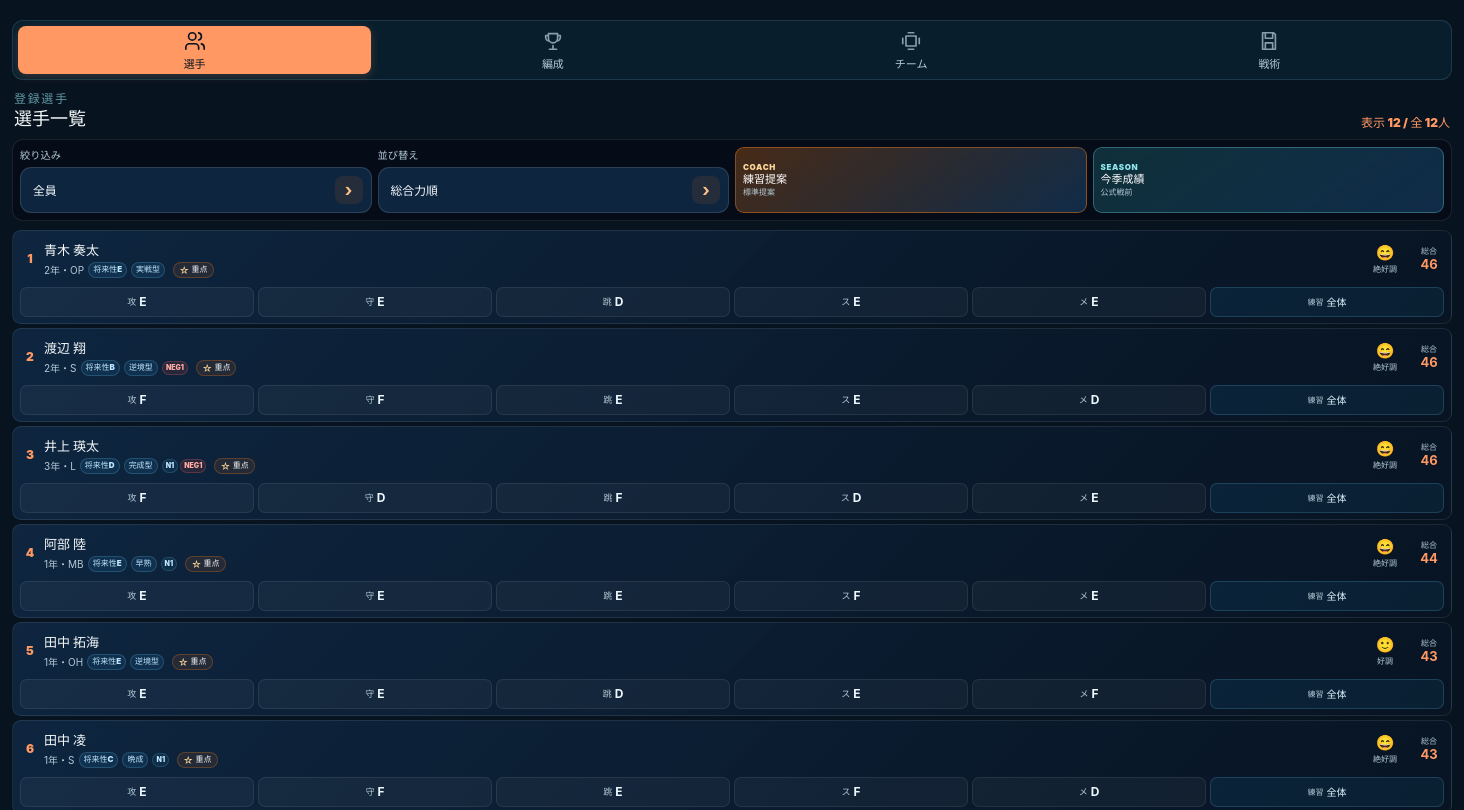
Test: ability and school strength grades › shows each player ability summary as an S-G grade
Click the button "田中 拓海" at (72, 641), box x1=38 y1=627 x2=105 y2=655
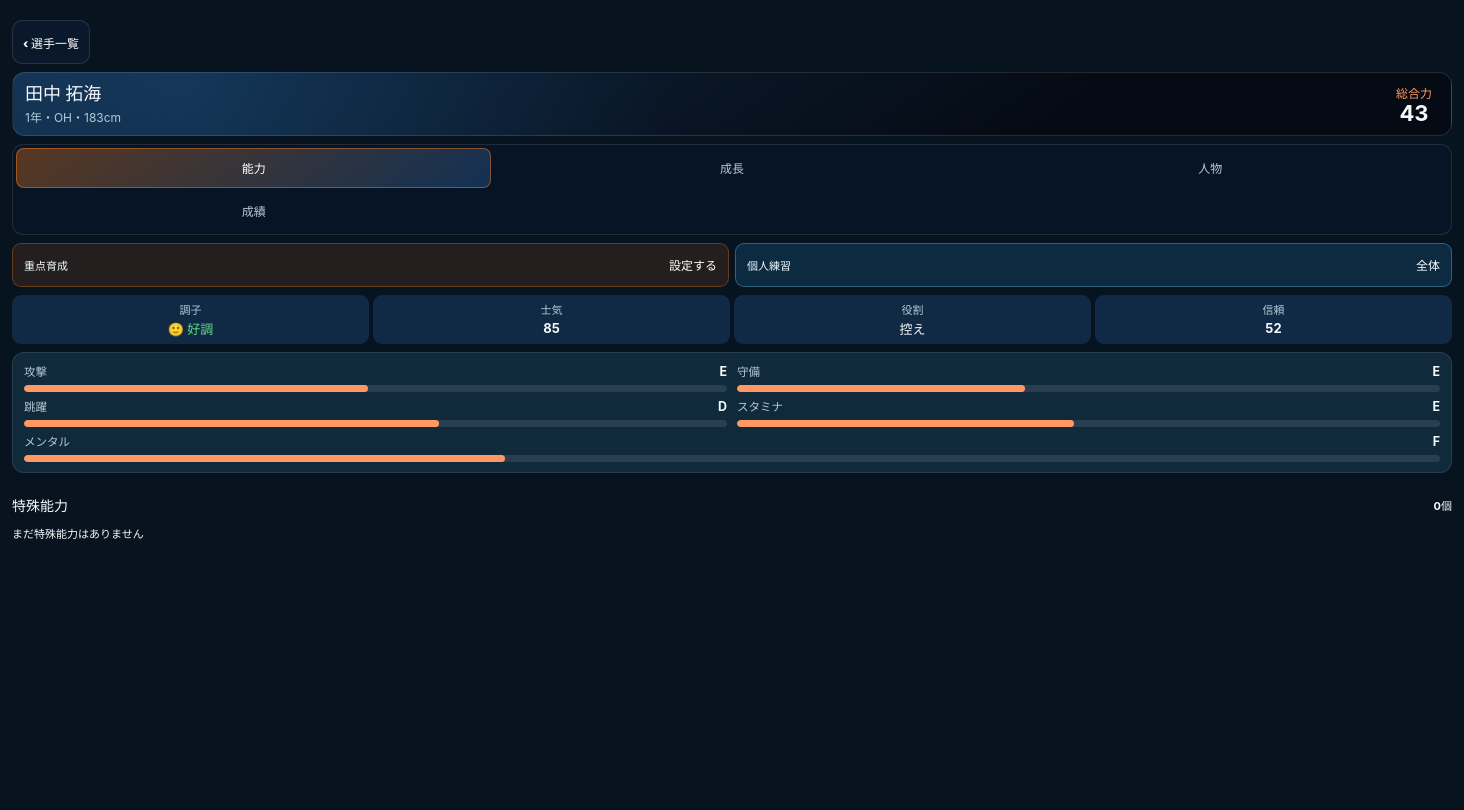
Expected: the number of progress indicators is 5, x1=24 y1=385 x2=727 y2=392; x1=737 y1=385 x2=1440 y2=392; x1=24 y1=420 x2=727 y2=427; x1=737 y1=420 x2=1440 y2=427; x1=24 y1=455 x2=1440 y2=462
Expected: the element showing "攻撃 E" is shown, x1=24 y1=363 x2=727 y2=392
Expected: the element showing "守備 E" is shown, x1=737 y1=363 x2=1440 y2=392
